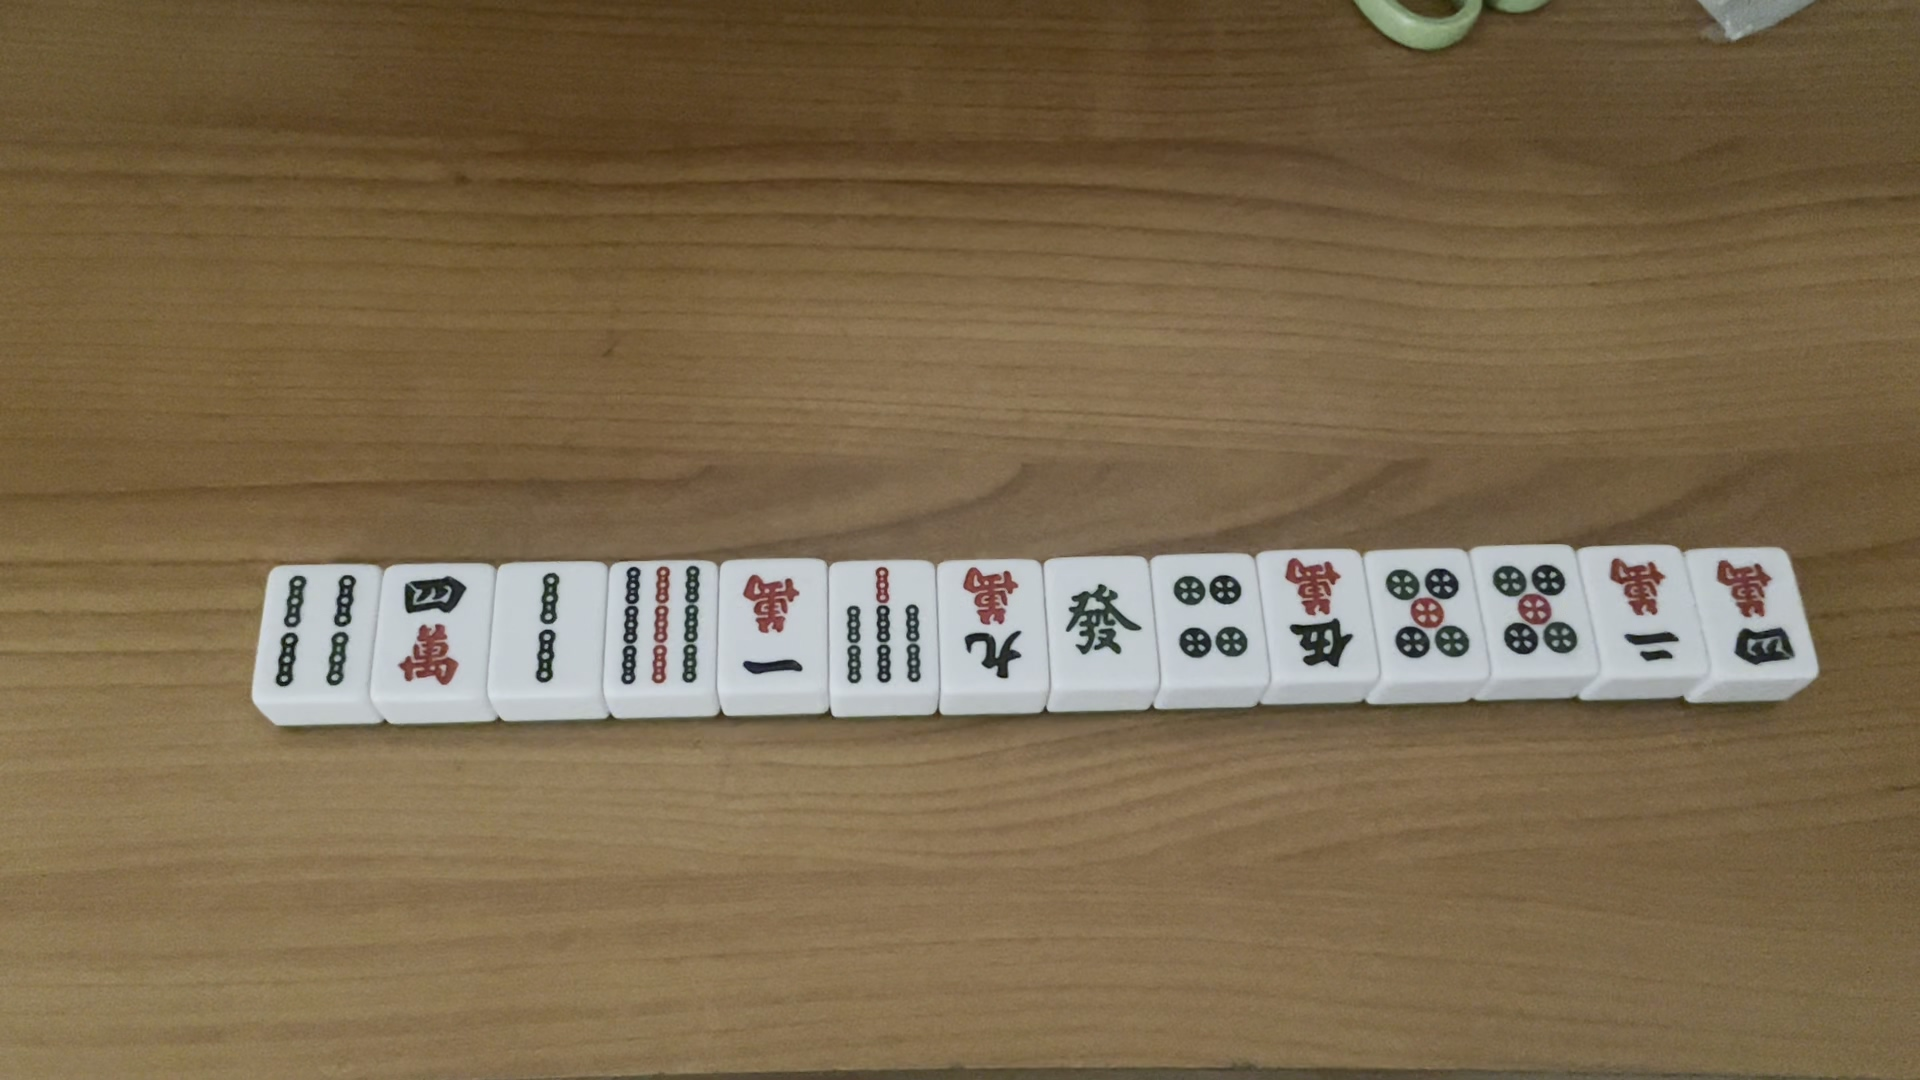b-2: (512, 574, 578, 688)
b-4: (266, 568, 357, 698)
b-7: (839, 564, 926, 691)
b-9: (613, 556, 705, 692)
c-1: (732, 574, 815, 684)
c-2: (1606, 556, 1693, 669)
c-4: (381, 572, 476, 688), (1709, 554, 1799, 670)
c-5: (1280, 559, 1358, 673)
c-9: (951, 564, 1029, 682)
d-4: (1170, 572, 1249, 665)
d-5: (1491, 556, 1584, 670), (1386, 560, 1473, 670)
honors-green: (1060, 564, 1145, 669)
